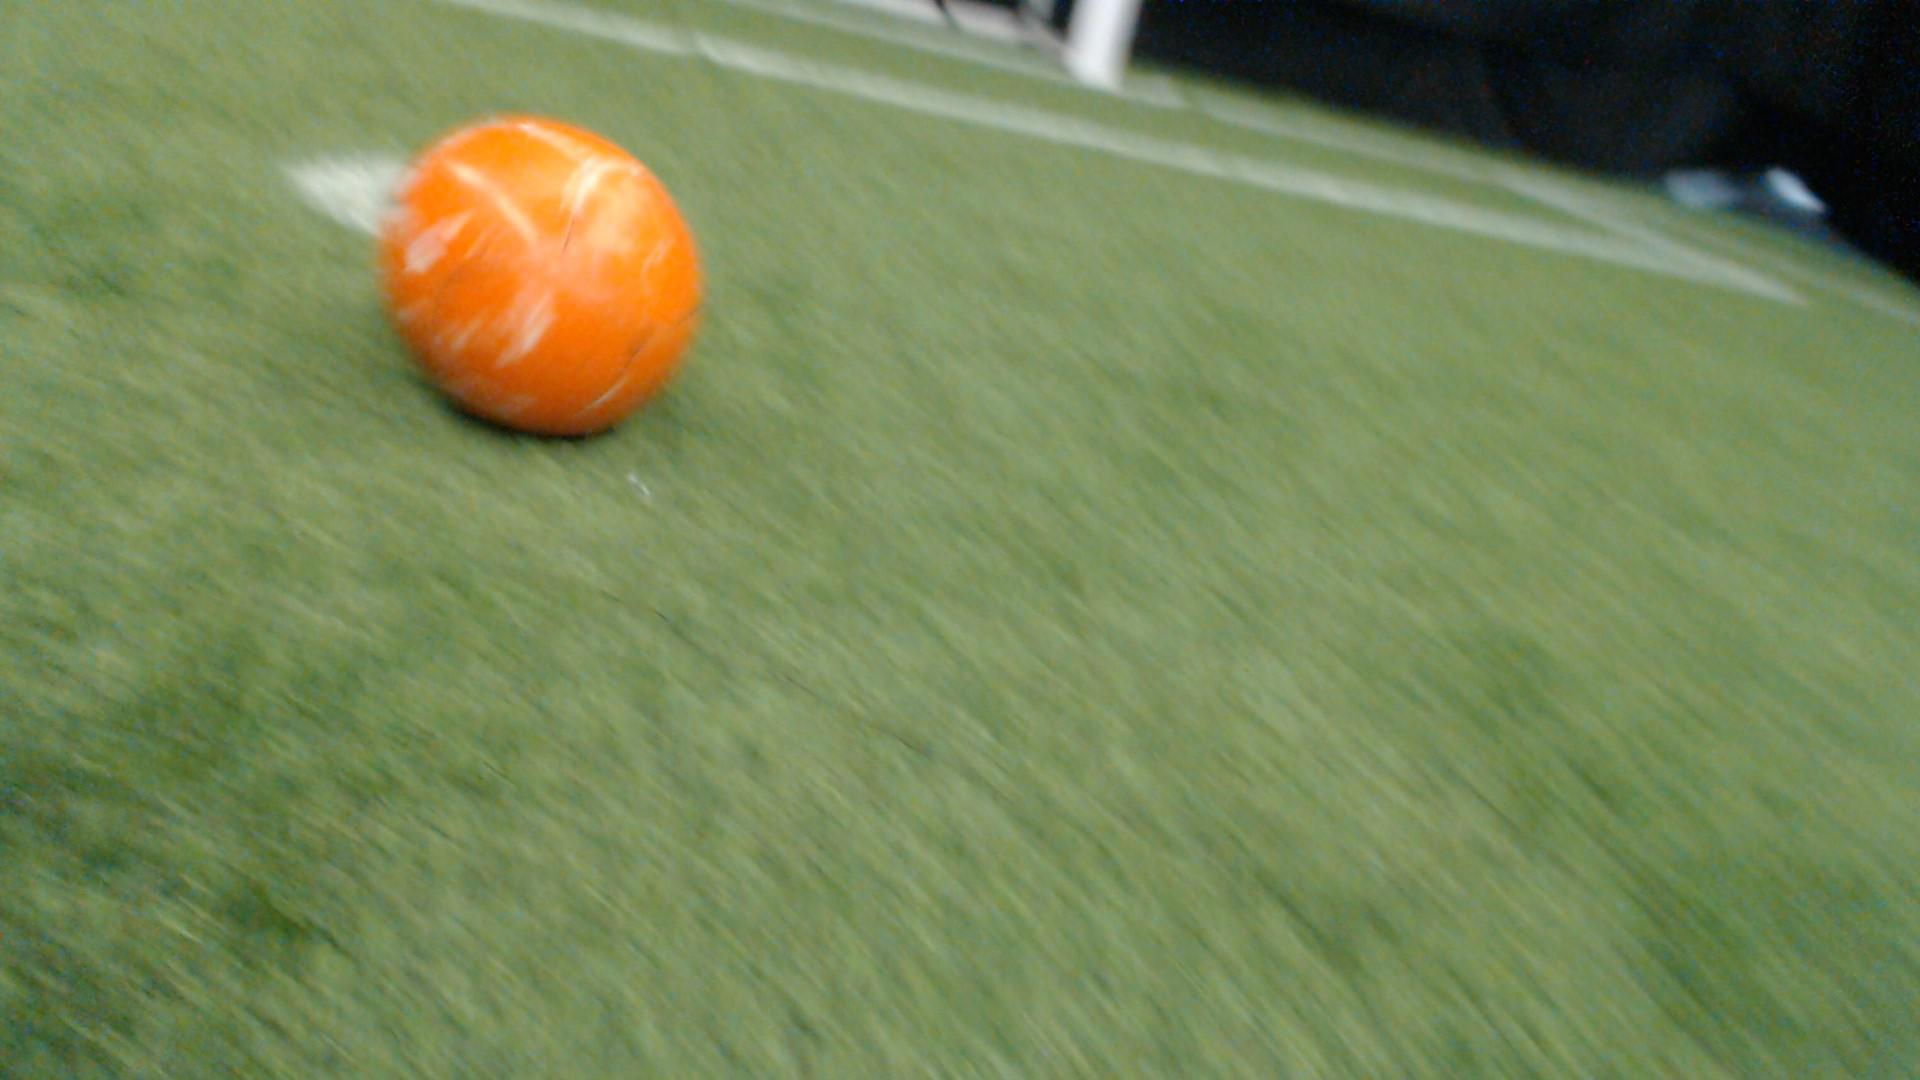bola: (344, 102, 723, 444)
